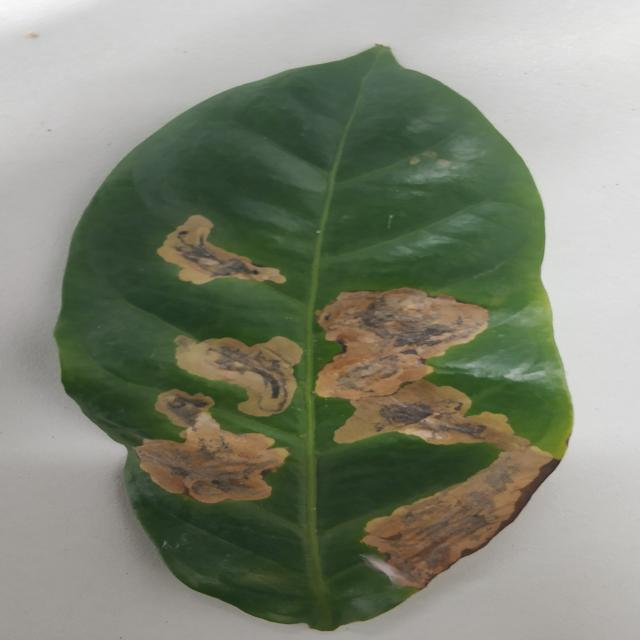Plaga-Minador: (53, 45, 575, 633)
